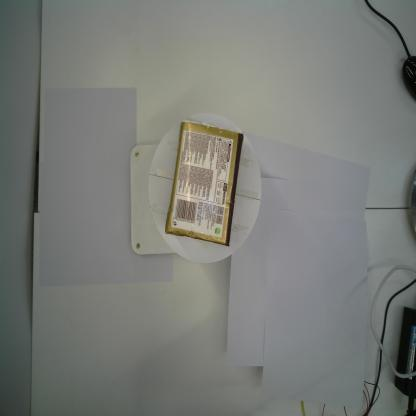Tissue: (164, 119, 244, 248)
